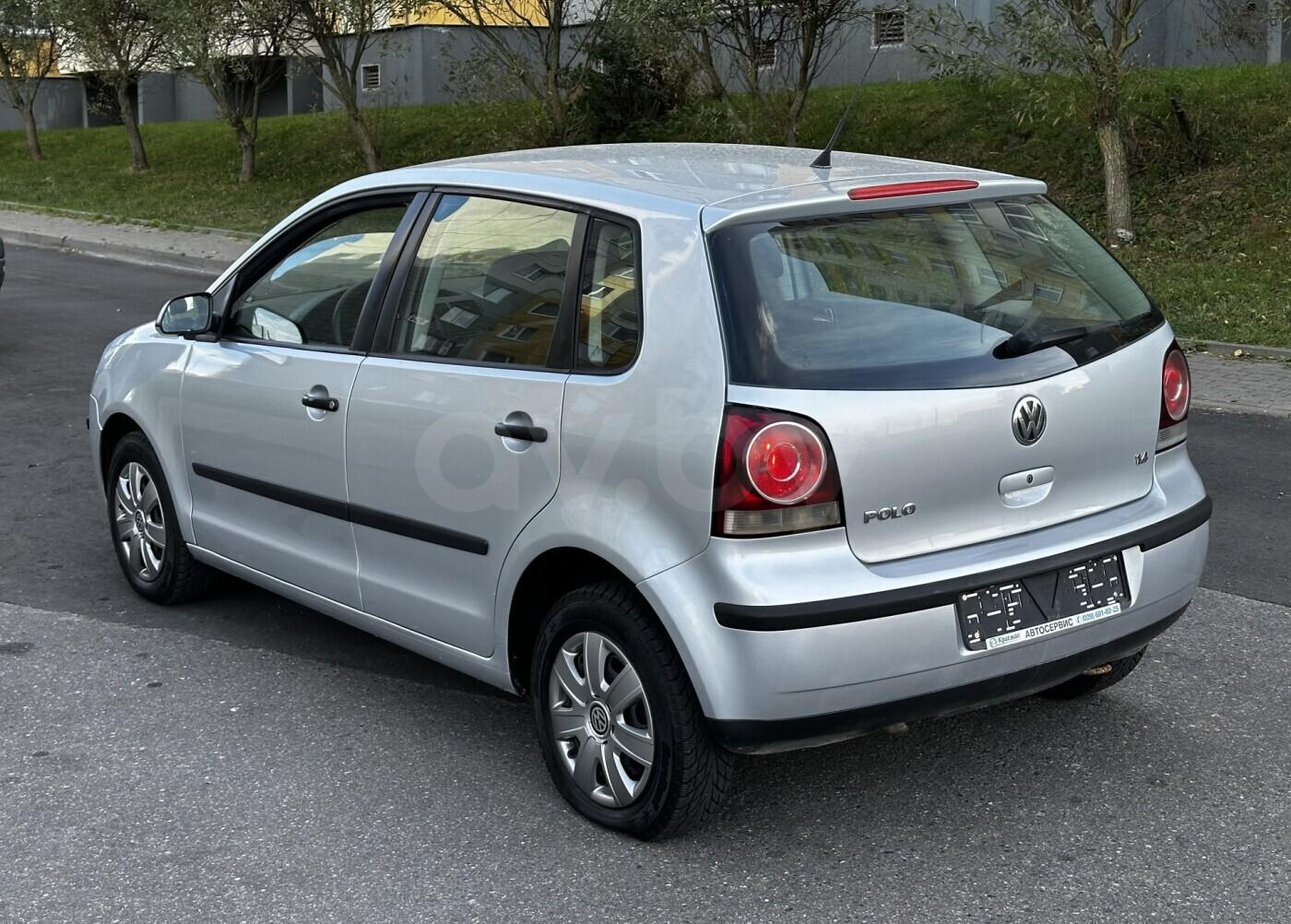Polo_2005-2009: (70, 129, 1222, 864)
